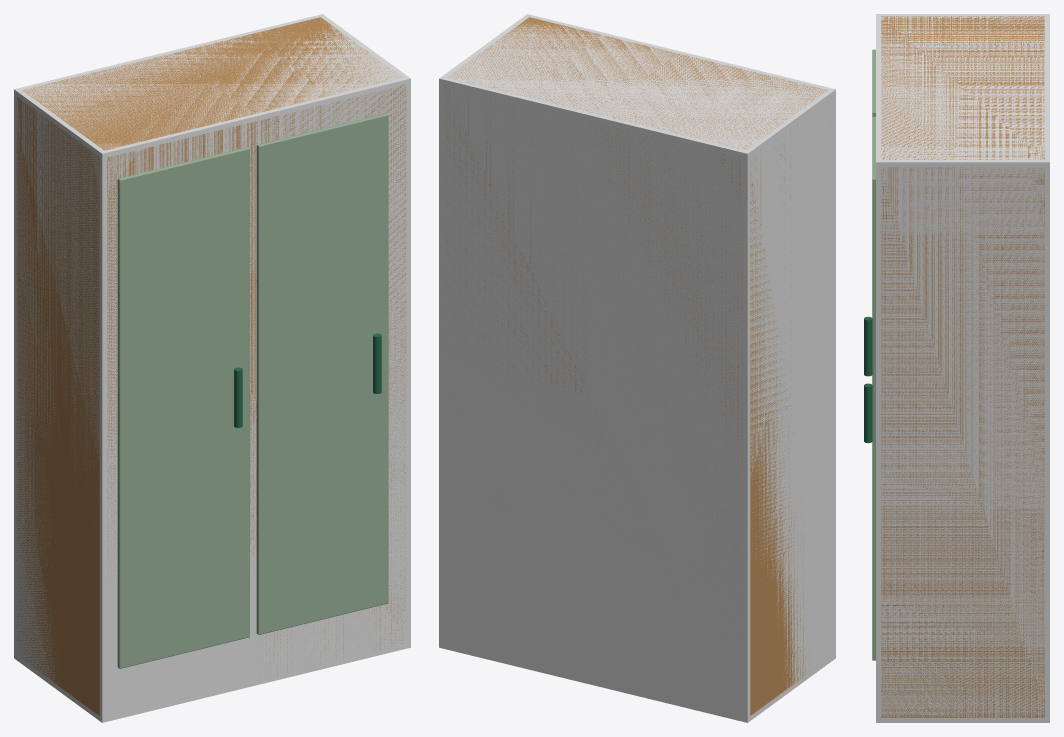
The model's file is storage-cabinet_retail.glb.
3 views of the same model, side by side, from view 1: azimuth 30°, elevation 25°; view 2: azimuth 150°, elevation 25°; view 3: azimuth 270°, elevation 25° (orthographic).
Parts seen in each view (by area): view 1: COL_storage-cabinet, MESH_CabinetCarcass, MESH_Door_02, MESH_Door_01; view 2: COL_storage-cabinet, MESH_CabinetCarcass; view 3: COL_storage-cabinet, MESH_CabinetCarcass, MESH_Door_02, MESH_Handle, MESH_Handle.001.
Part boxes in pixels (<box>): COL_storage-cabinet: <box>14,14,410,722</box>; MESH_CabinetCarcass: <box>16,17,406,715</box>; MESH_Door_02: <box>256,113,388,634</box>; MESH_Door_01: <box>117,147,249,668</box>; COL_storage-cabinet: <box>439,14,835,722</box>; MESH_CabinetCarcass: <box>444,17,830,715</box>; COL_storage-cabinet: <box>876,14,1049,722</box>; MESH_CabinetCarcass: <box>881,16,1044,717</box>; MESH_Door_02: <box>872,116,875,660</box>; MESH_Handle: <box>864,316,872,376</box>; MESH_Handle.001: <box>864,383,872,443</box>.
Bounding box in the file's own units: 1.05 × 1.85 × 0.556.
